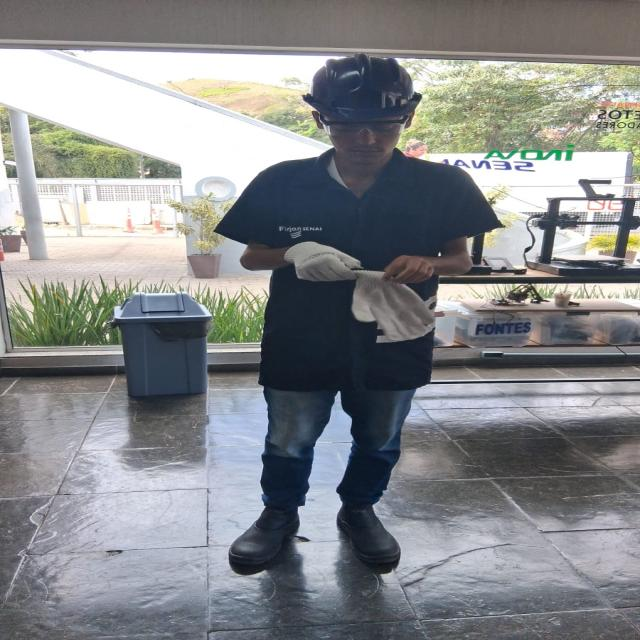BOTA: (213, 500, 308, 564), (334, 496, 405, 565)
CAPACETE: (302, 48, 428, 122)
JALECO: (206, 141, 513, 394)
LUVA: (277, 234, 366, 284)
OCULOS: (314, 114, 412, 138)
SEM LUVA: (375, 256, 438, 286)
